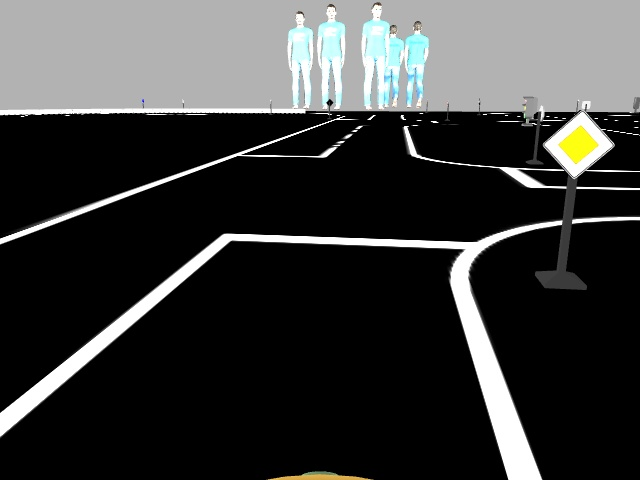Priority: (537, 109, 615, 180)
